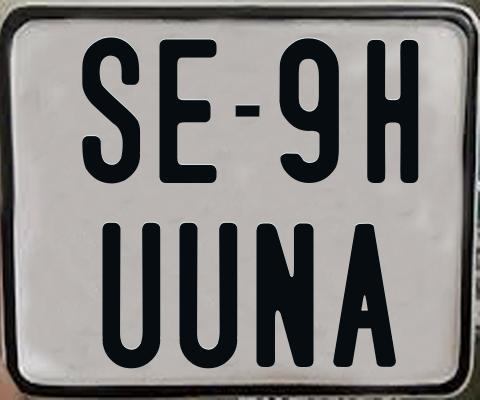9: (279, 36, 341, 182)
A: (333, 222, 397, 365)
E: (158, 38, 218, 185)
H: (364, 39, 421, 186)
N: (254, 221, 314, 370)
S: (79, 37, 140, 189)
U: (177, 221, 241, 367), (102, 222, 164, 371)
